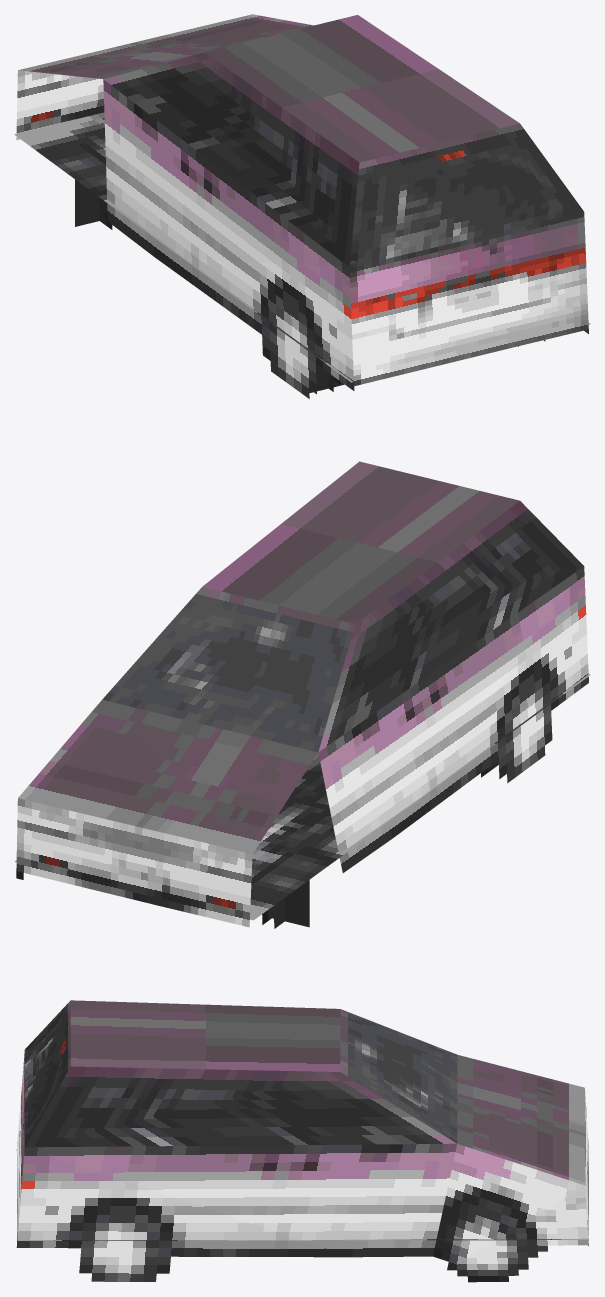
Rendered from car-axxess-plt3.glb.
3 renders of one model, top to bottom at view 1: azimuth 30°, elevation 25°; view 2: azimuth 150°, elevation 25°; view 3: azimuth 270°, elevation 25°, orthographic. The views are drawn at different scales.
Visible parts, largest first — view 1: car-axxess-plt3; view 2: car-axxess-plt3; view 3: car-axxess-plt3.
Boxes of the visible parts, left/top/right/bottom form: car-axxess-plt3: left=14, top=14, right=590, bottom=398; car-axxess-plt3: left=14, top=461, right=590, bottom=928; car-axxess-plt3: left=16, top=1000, right=588, bottom=1282.
Size of the model in its own units: 1.52 by 1.43 by 3.74.
Materials: 13 (13 with a texture image).
